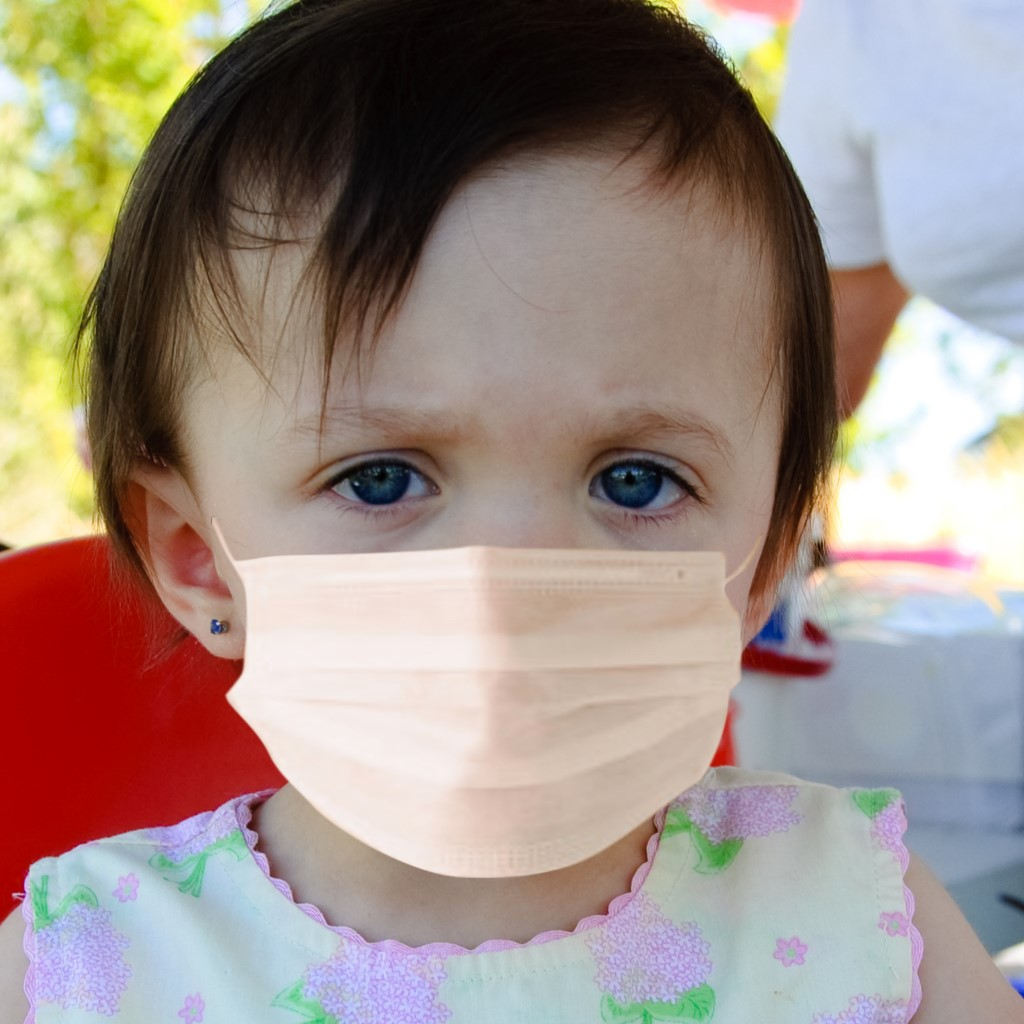con_mascara: (163, 98, 798, 893)
